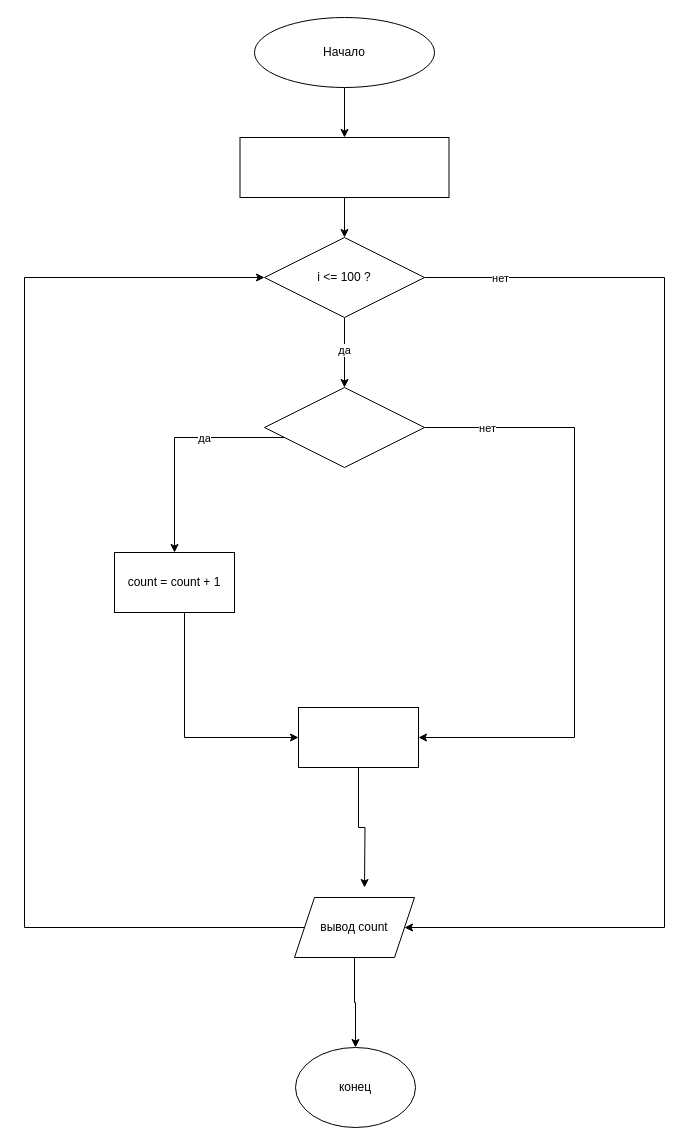
This 690x1145 diagram has some shape labels left out. The shapes that lost their labels are listed below. From the top down, each one's centre as x and y in pixels, then its label:
At pixel 344 167: "count = 0 i= 1".
At pixel 344 427: "i % 2 == 0?".
At pixel 358 737: "i += 1".
